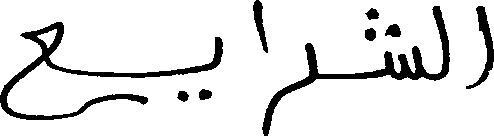X: (0, 17, 62, 124), (269, 38, 316, 134), (385, 19, 421, 84), (468, 1, 493, 93), (252, 0, 267, 135), (433, 1, 450, 85), (210, 32, 222, 102)
